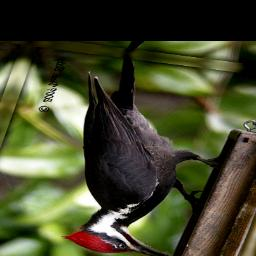Woodpecker: (24, 50, 253, 256)
